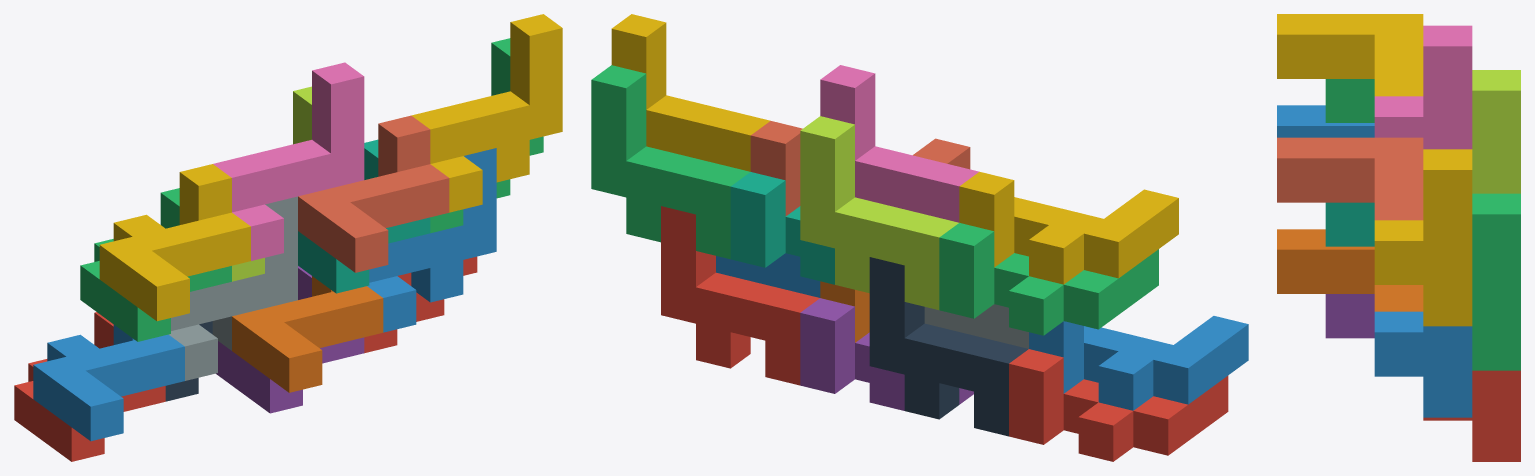
Rendered from tiling.obj.
3 views of the same model, side by side, from view 1: azimuth 30°, elevation 25°; view 2: azimuth 150°, elevation 25°; view 3: azimuth 270°, elevation 25° (orthographic). The views are drawn at different scales.
Parts seen in each view (by area): view 1: copy_2_domain_8, copy_1_domain_4, copy_2_domain_4, copy_1_domain_8, copy_1_domain_2, copy_1_domain_6, copy_2_domain_6, copy_2_domain_2, copy_1_domain_3, copy_1_domain_1, copy_1_domain_5, copy_1_domain_7 (+4 smaller); view 2: copy_2_domain_7, copy_2_domain_3, copy_1_domain_4, copy_2_domain_1, copy_2_domain_5, copy_1_domain_3, copy_1_domain_1, copy_1_domain_2, copy_2_domain_4, copy_2_domain_8, copy_1_domain_5, copy_1_domain_7 (+4 smaller); view 3: copy_2_domain_8, copy_1_domain_8, copy_1_domain_4, copy_2_domain_7, copy_2_domain_4, copy_2_domain_6, copy_1_domain_6, copy_2_domain_3, copy_2_domain_5, copy_1_domain_2, copy_1_domain_5, copy_1_domain_7 (+1 smaller).
Boxes of the visible parts, x1,y1,x2,y2 form: copy_2_domain_8: [411, 14, 562, 212]; copy_1_domain_4: [99, 164, 250, 321]; copy_2_domain_4: [213, 62, 364, 260]; copy_1_domain_8: [298, 115, 449, 272]; copy_1_domain_2: [33, 324, 184, 441]; copy_1_domain_6: [232, 276, 383, 392]; copy_2_domain_6: [367, 148, 496, 332]; copy_2_domain_2: [169, 196, 297, 380]; copy_1_domain_3: [80, 188, 231, 341]; copy_1_domain_1: [14, 312, 165, 461]; copy_1_domain_5: [216, 266, 364, 413]; copy_1_domain_7: [298, 139, 430, 293]; copy_2_domain_7: [591, 65, 750, 259]; copy_2_domain_3: [800, 116, 958, 309]; copy_1_domain_4: [959, 171, 1178, 284]; copy_2_domain_1: [869, 257, 1028, 436]; copy_2_domain_5: [661, 206, 819, 385]; copy_1_domain_3: [939, 223, 1158, 335]; copy_1_domain_1: [1009, 349, 1228, 461]; copy_1_domain_2: [1029, 316, 1248, 410]; copy_2_domain_4: [820, 65, 978, 222]; copy_2_domain_8: [611, 14, 770, 171]; copy_1_domain_5: [800, 298, 973, 410]; copy_1_domain_7: [730, 172, 834, 284]; copy_2_domain_8: [1374, 149, 1472, 326]; copy_1_domain_8: [1277, 137, 1423, 220]; copy_1_domain_4: [1277, 14, 1423, 96]; copy_2_domain_7: [1472, 193, 1520, 370]; copy_2_domain_4: [1374, 25, 1472, 149]; copy_2_domain_6: [1374, 311, 1472, 417]; copy_1_domain_6: [1277, 229, 1423, 311]; copy_2_domain_3: [1472, 70, 1520, 193]; copy_2_domain_5: [1423, 370, 1520, 461]; copy_1_domain_2: [1277, 105, 1374, 137]; copy_1_domain_5: [1325, 294, 1374, 338]; copy_1_domain_7: [1325, 202, 1374, 246].
Bounding box in the file's own units: 16 × 8 × 5.
